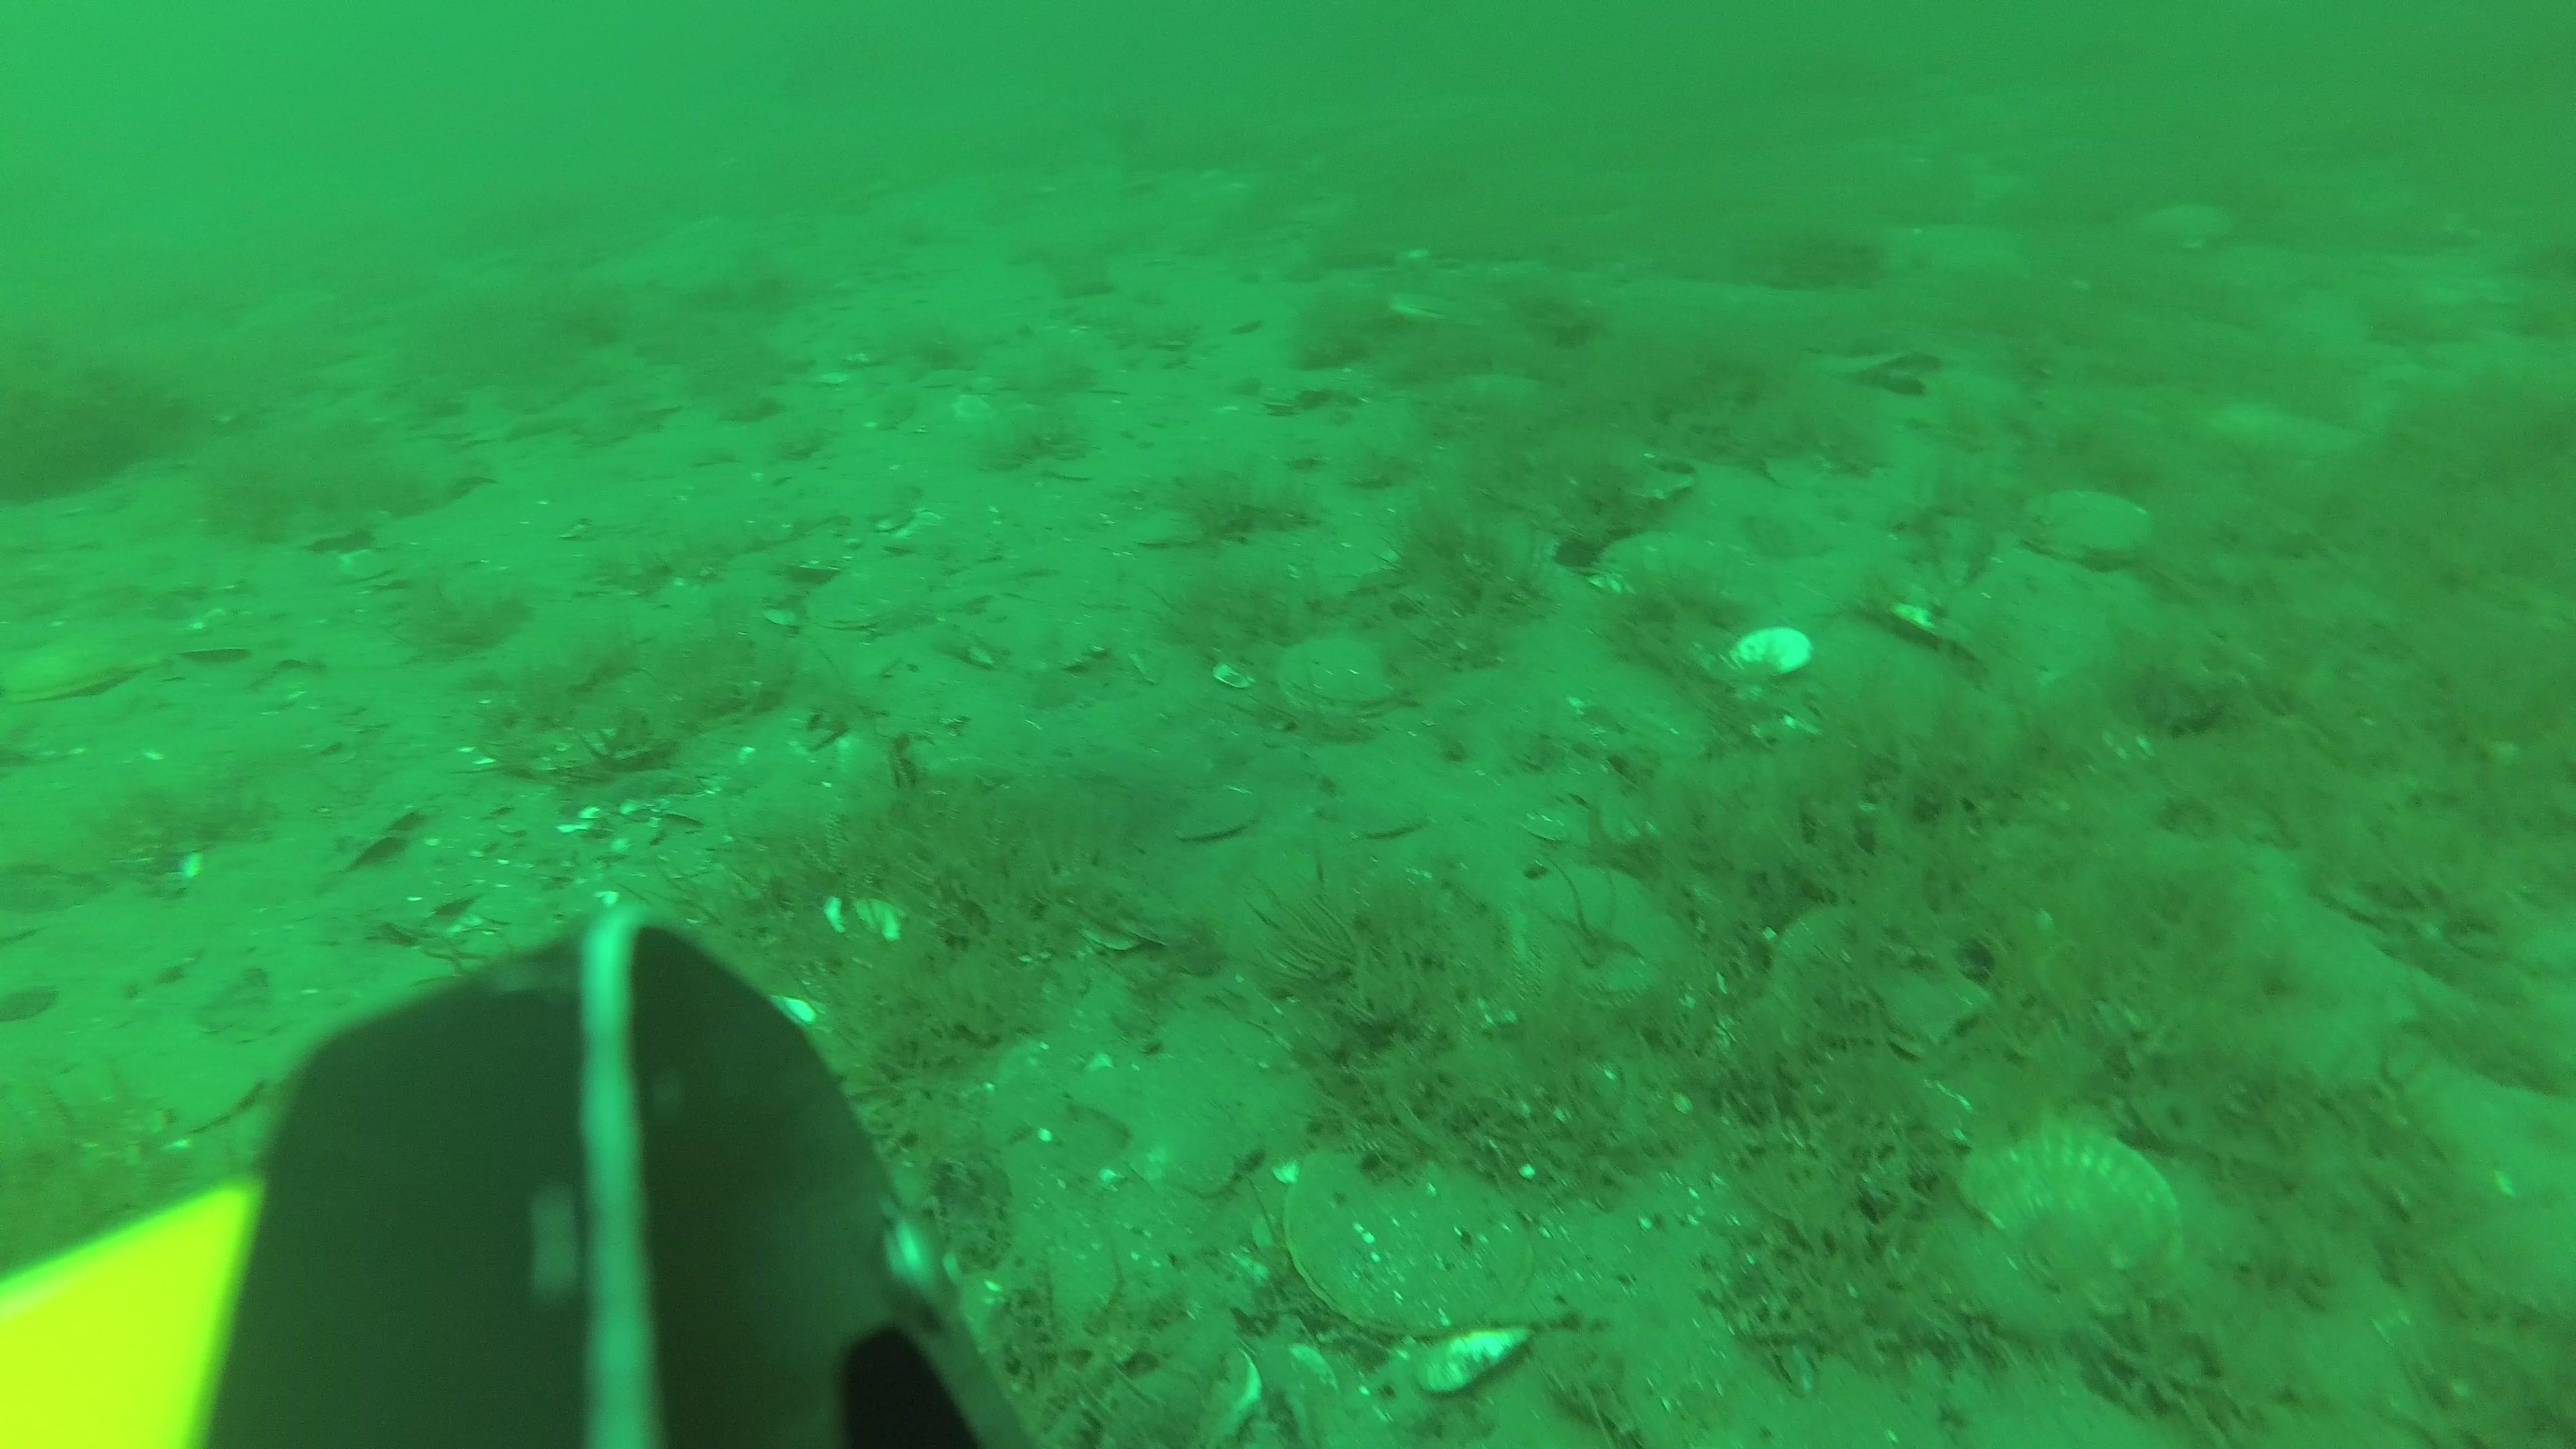scallop: (1281, 1136, 1552, 1346), (1943, 1108, 2194, 1311), (1771, 888, 2001, 1058), (1525, 423, 1709, 510), (1272, 625, 1415, 722), (9, 630, 172, 715), (805, 548, 947, 633), (2019, 485, 2166, 566), (1516, 789, 1654, 858), (1162, 786, 1272, 847), (2135, 198, 2243, 253), (1729, 630, 1822, 678), (1359, 789, 1421, 853)
